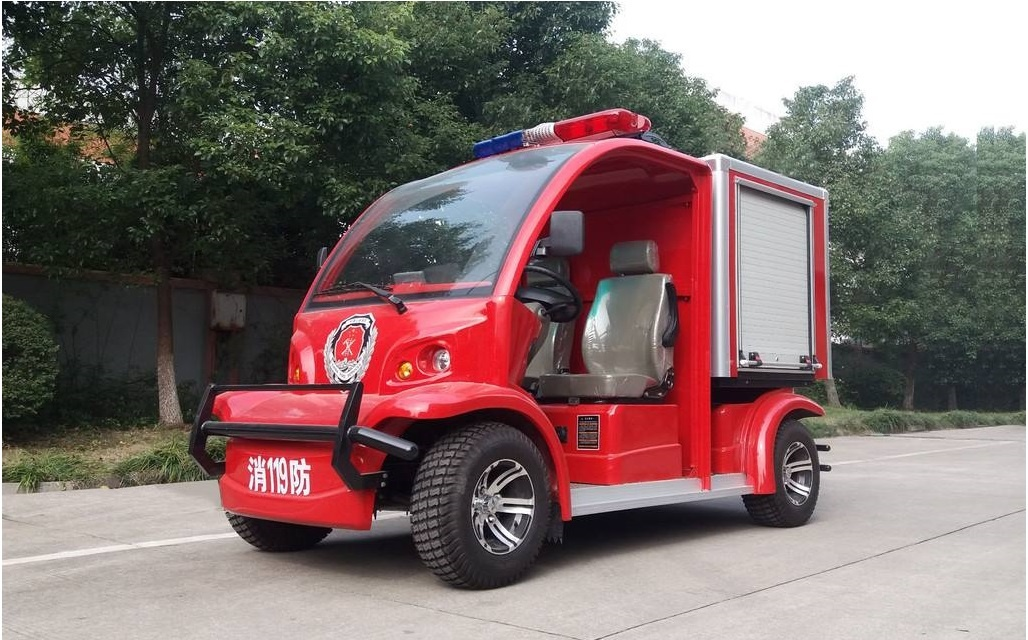fire engine: (217, 106, 850, 561)
